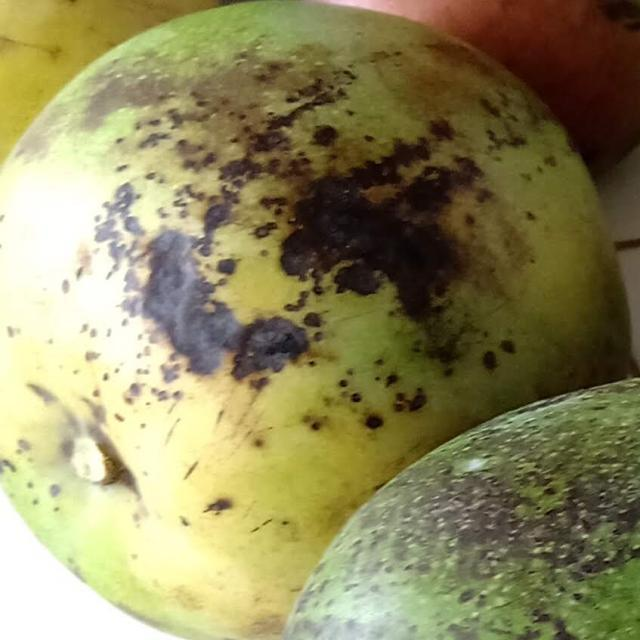Mango: (2, 0, 640, 639), (273, 373, 640, 640)
